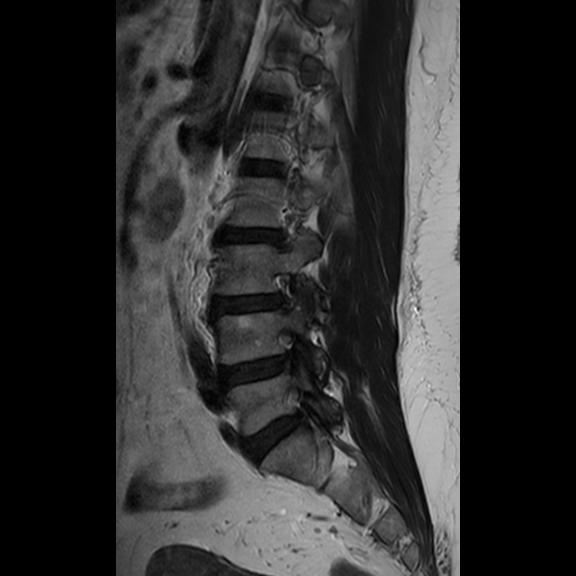LFS1: (267, 264, 304, 317)
